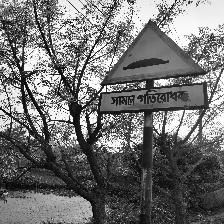Speed-breaker: (98, 18, 210, 115)
